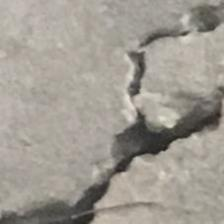Crack: (17, 0, 223, 224)
